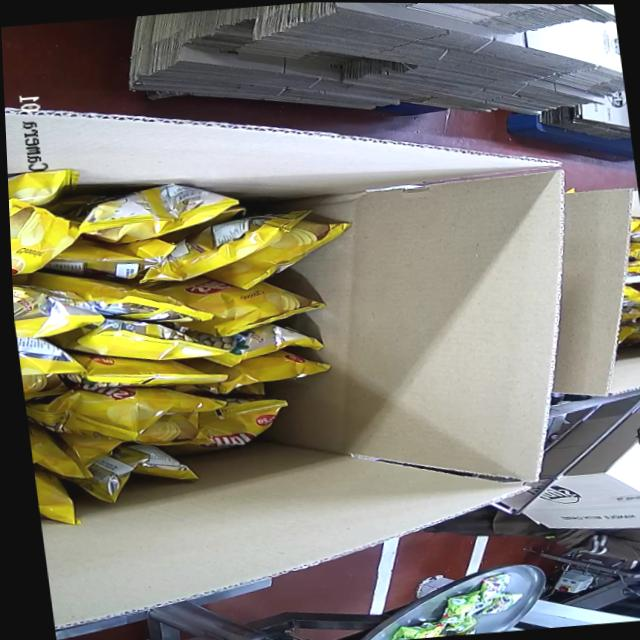SALTED: (6, 135, 404, 536), (609, 213, 640, 360)
